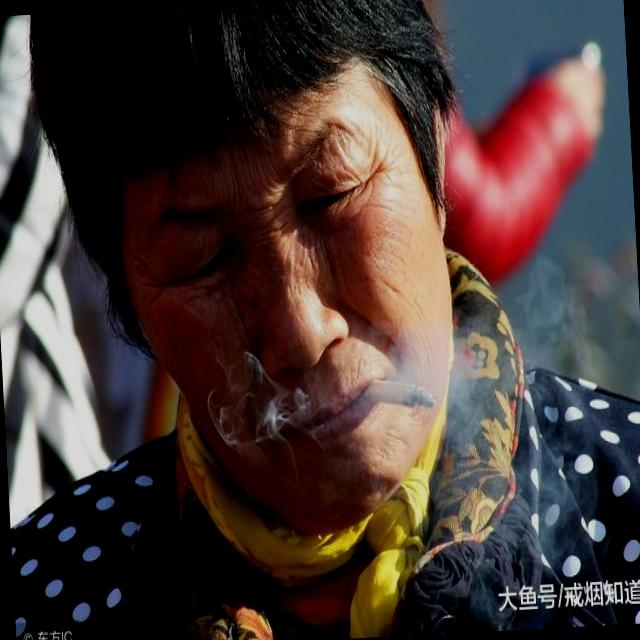cigarette: (366, 373, 442, 418)
